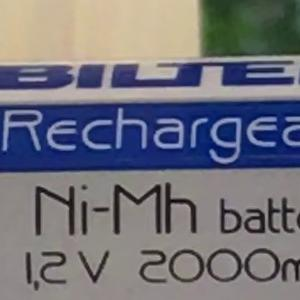NI-MH: (25, 172, 207, 246)
